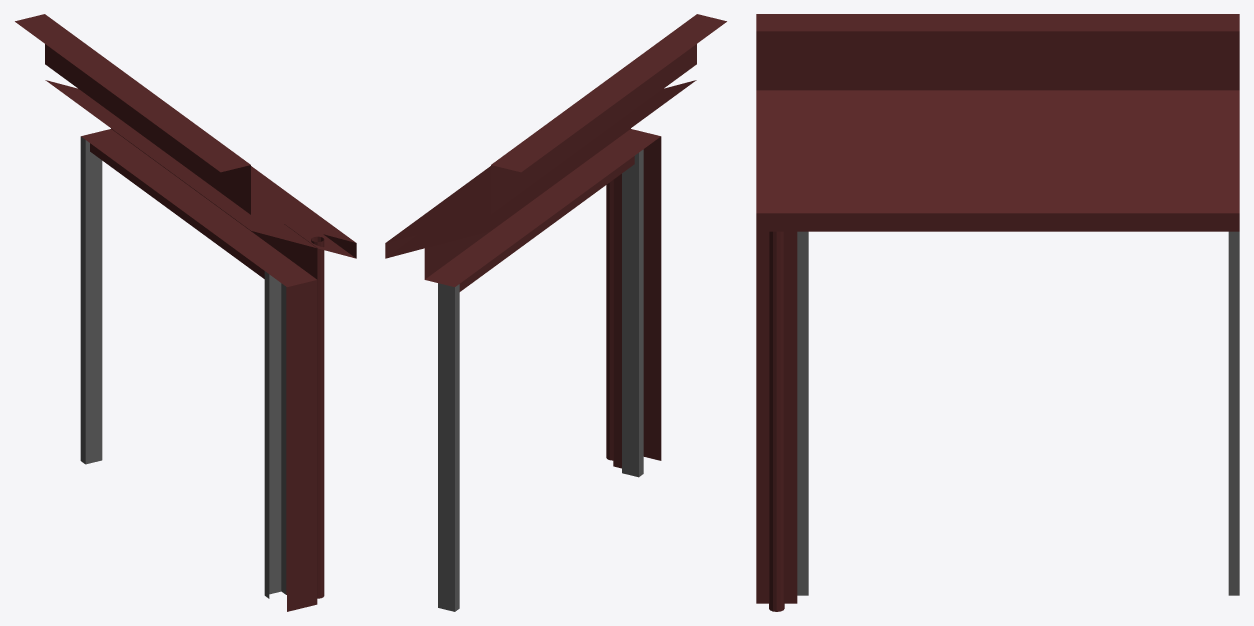
File: ShedFront_Open.fbx
3 renders of one model, left to right at view 1: azimuth 30°, elevation 25°; view 2: azimuth 150°, elevation 25°; view 3: azimuth 270°, elevation 25°, orthographic. The views are drawn at different scales.
Visible parts, largest first — view 1: ShedFront.Open; view 2: ShedFront.Open; view 3: ShedFront.Open.
Boxes of the visible parts, x1,y1,x2,y2 form: ShedFront.Open: (15,14,356,611); ShedFront.Open: (385,14,726,611); ShedFront.Open: (756,14,1239,611).
Size of the model in its own units: 1.31 by 3.45 by 4.21.
